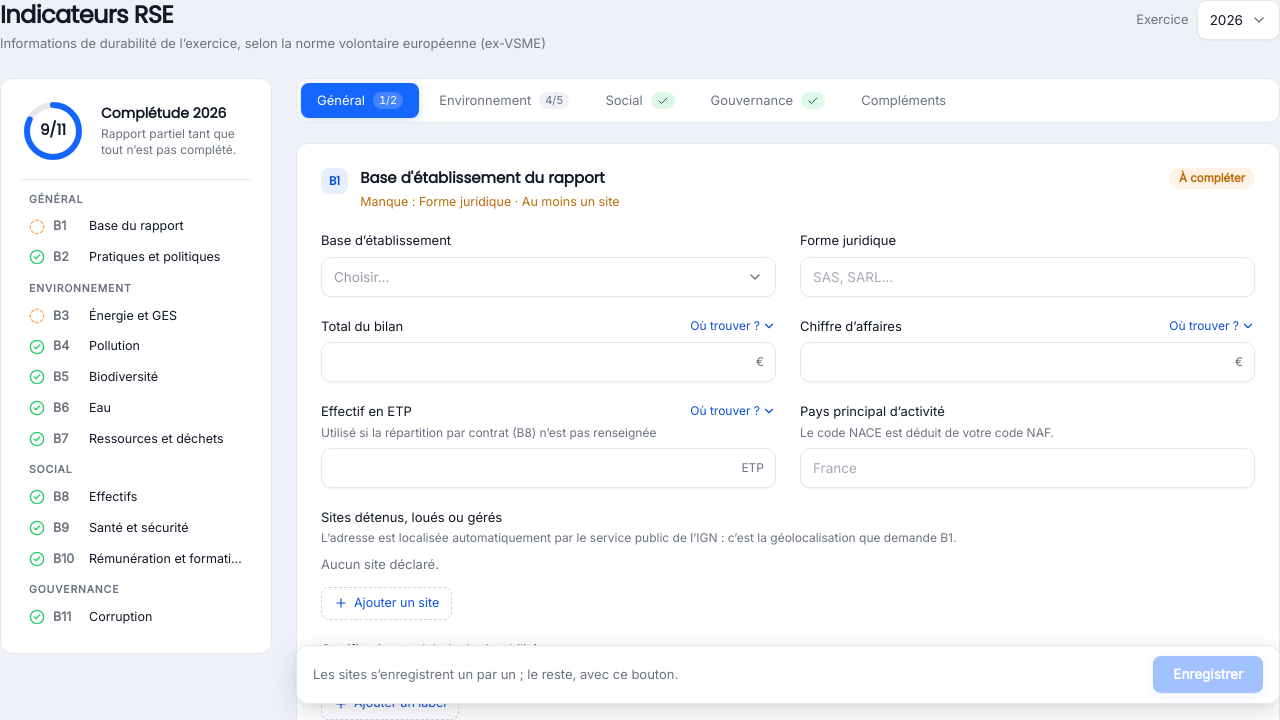
Test: IndicatorsPage › présente les onze informations en onglets suivant les groupes de la norme, avec la complétude du serveur
The image size is (1280, 720).
expect the button "B1 Base du rapport" is shown: met, box left=21, top=211, right=251, bottom=242
expect the button "B4 Pollution" is shown: met, box left=21, top=331, right=251, bottom=362
Click the tab "Général 1/2". click: (360, 100)
box: left=301, top=82, right=419, bottom=118
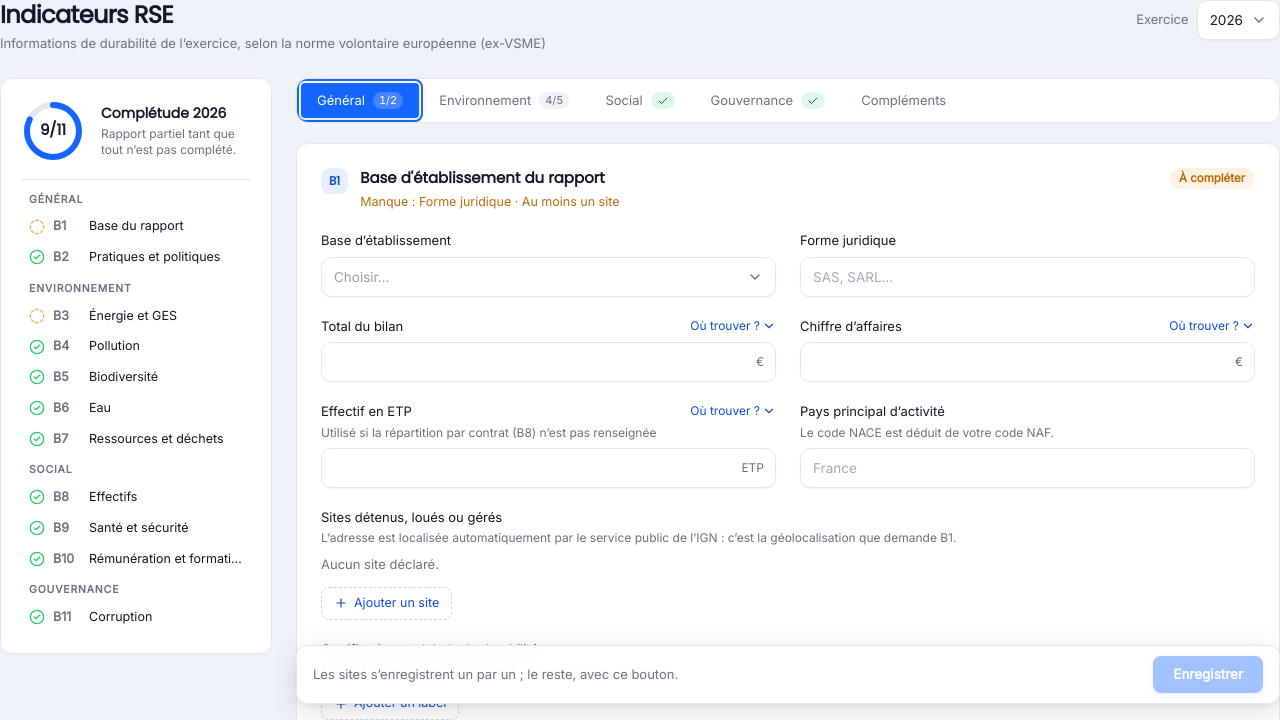
Click the tab "Environnement 4/5". click: (504, 100)
box: left=423, top=82, right=585, bottom=118
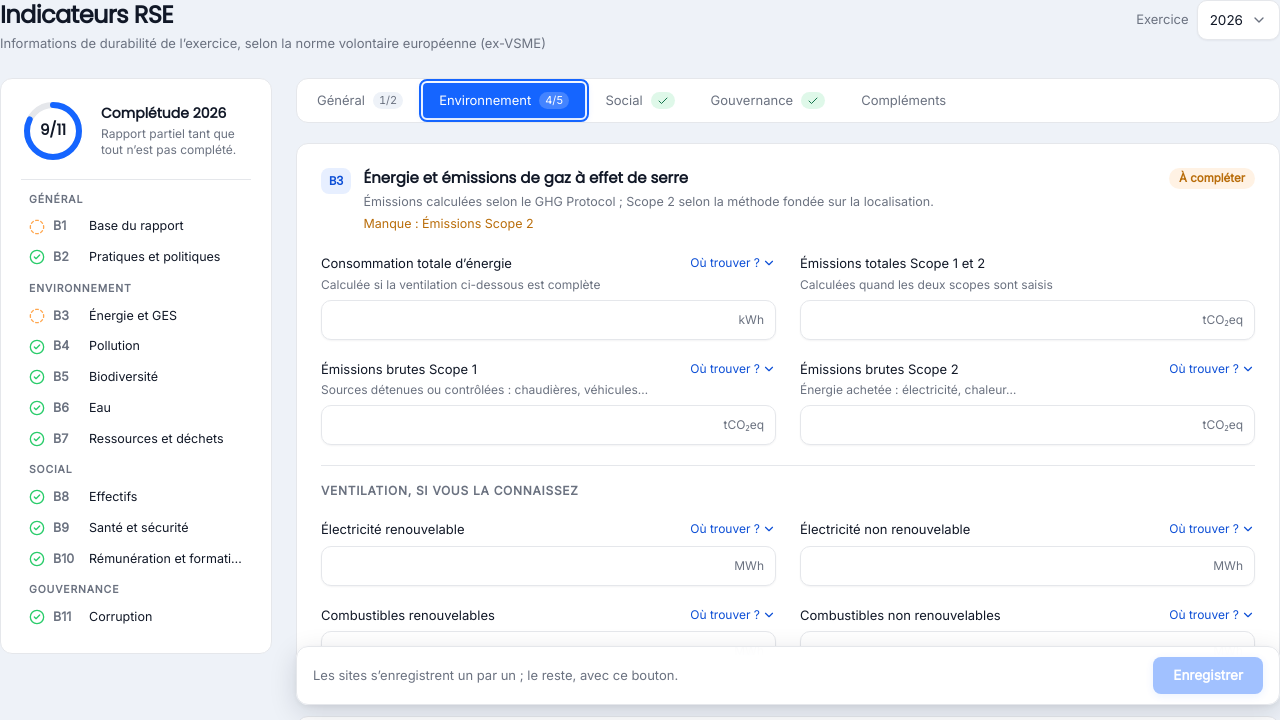
expect the tab "Environnement 4/5" is selected: met, box left=423, top=82, right=585, bottom=118
Click the tab "Social". click: (640, 100)
box: left=589, top=82, right=691, bottom=118
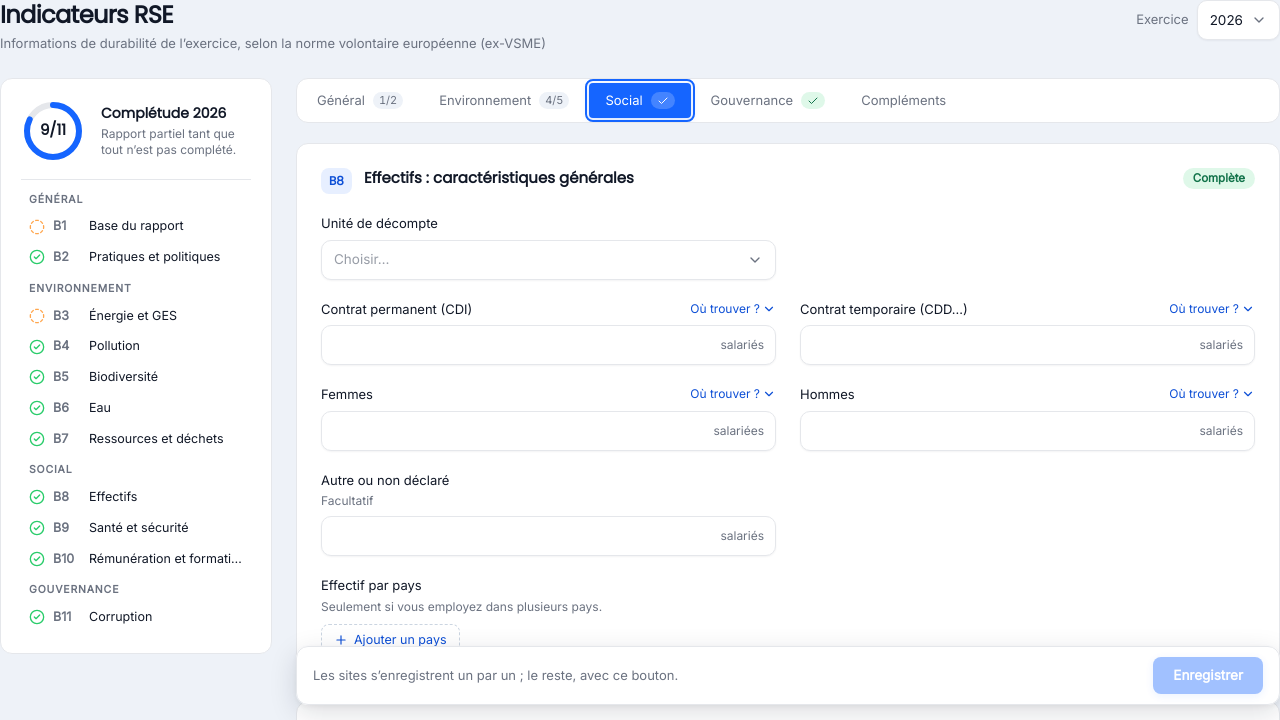
expect the tab "Social" is selected: met, box left=589, top=82, right=691, bottom=118
Click the tab "Gouvernance". click: (768, 100)
box: left=695, top=82, right=841, bottom=118
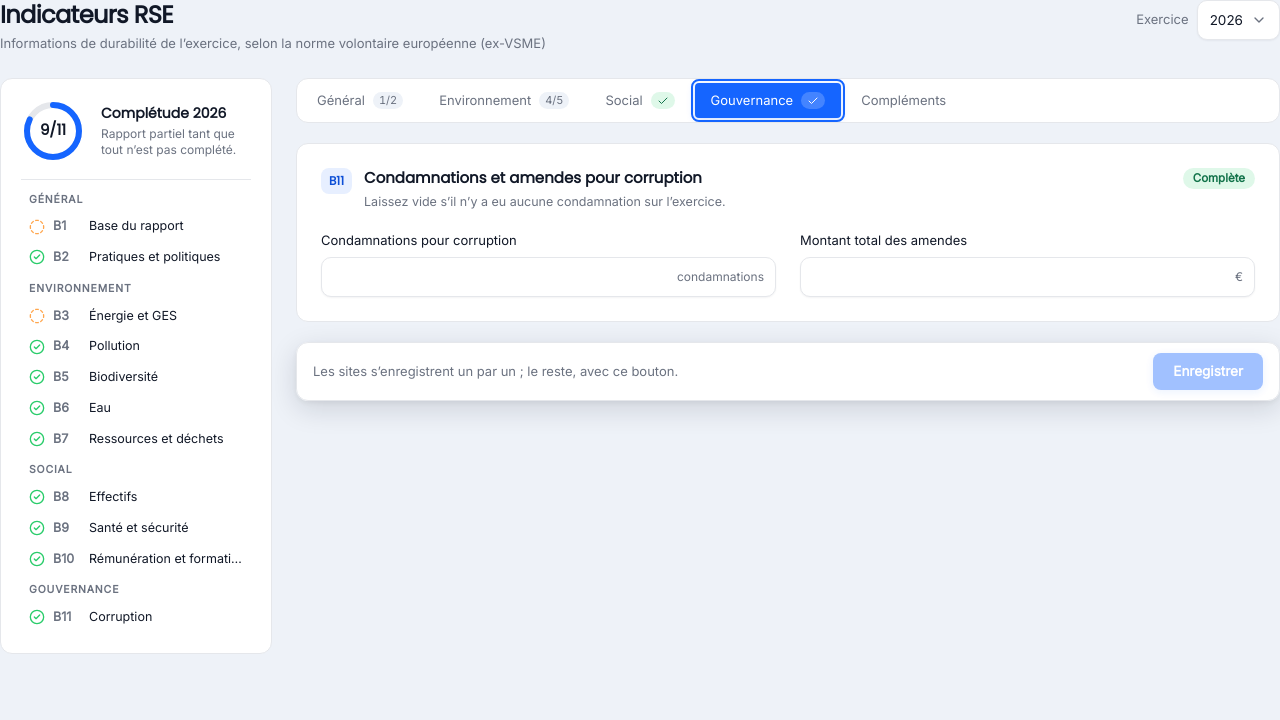
expect the headings read "Condamnations et amendes pour corruption", in this order: met, box left=364, top=167, right=702, bottom=188
Click the tab "Environnement 4/5". click: (504, 100)
box: left=423, top=82, right=585, bottom=118
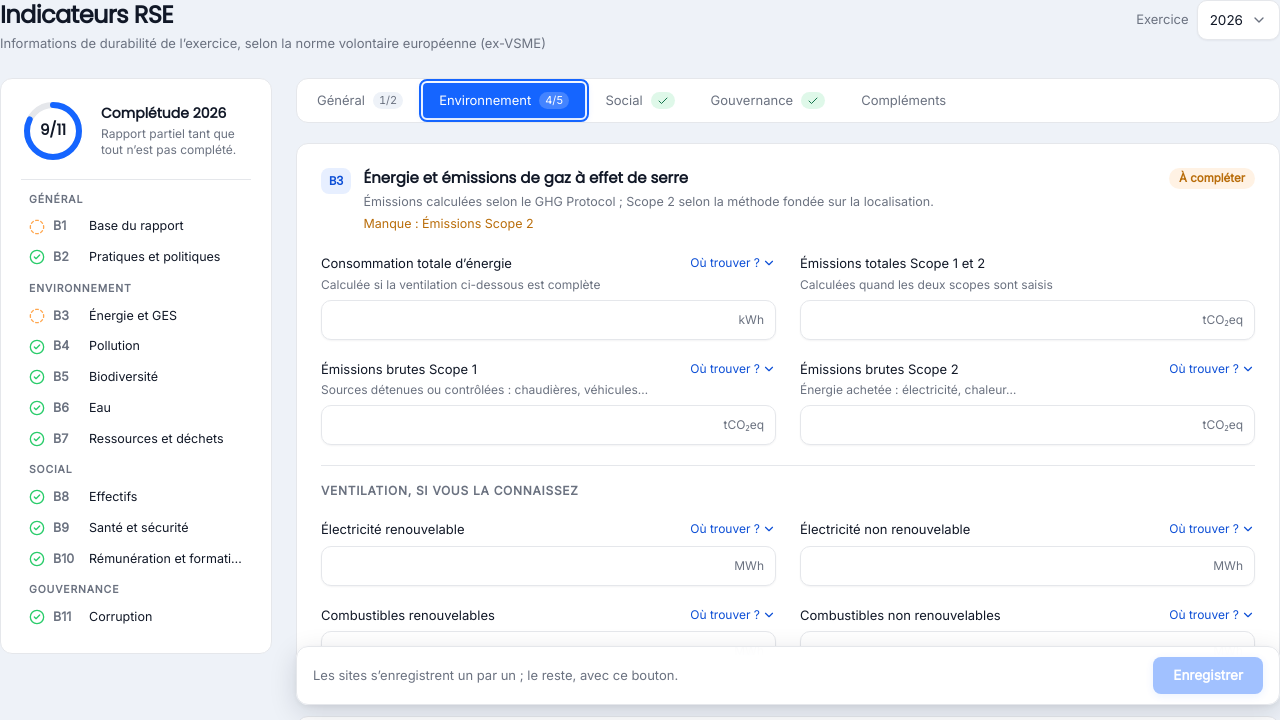
expect the text "Émissions Scope 2" is shown: met, box left=422, top=216, right=534, bottom=231
